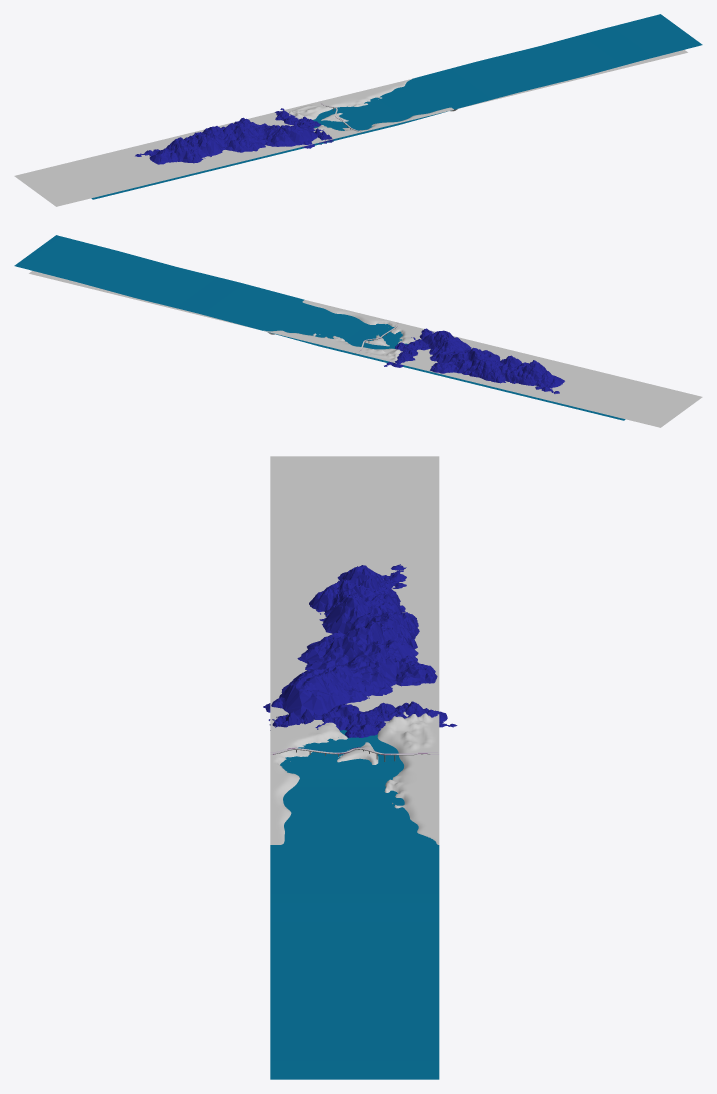
The model's file is beach_new3.FBX.
The picture shows the model from 3 angles, top to bottom: view 1: azimuth 30°, elevation 25°; view 2: azimuth 150°, elevation 25°; view 3: azimuth 270°, elevation 25°; orthographic projection. The views are drawn at different scales.
Parts seen in each view (by area): view 1: Plane030, Plane029, Object004, Object006; view 2: Plane030, Plane029, Object004, Object006; view 3: Plane030, Plane029, Object004, Object006.
Part boxes in pixels (x1,y1,x2,y2): Plane030: (91,14,702,199); Plane029: (14,112,317,206); Object004: (135,108,333,164); Object006: (280,50,687,142); Plane030: (14,235,625,420); Plane029: (400,336,702,427); Object004: (384,328,564,393); Object006: (29,271,435,363); Plane030: (270,730,439,1079); Plane029: (270,456,439,711); Object004: (263,564,457,737); Object006: (270,711,439,844).
Bounding box in the file's own units: 21206 × 2817 × 849.
